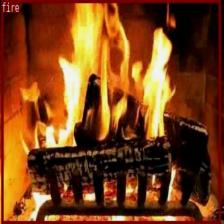fire: (1, 0, 220, 224)
